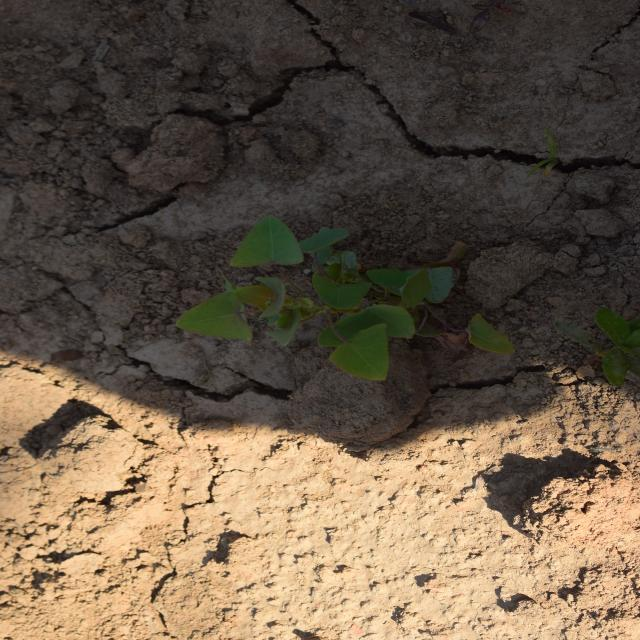Asiatic_Smartweed: (268, 180, 414, 448)
